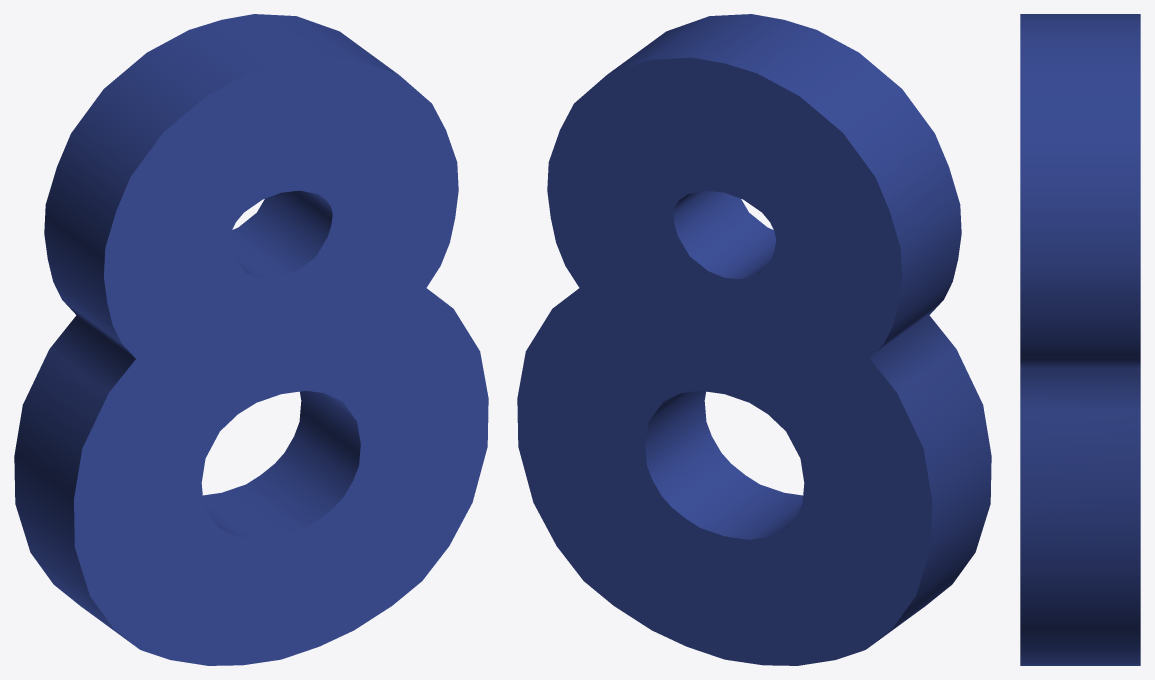
The model's file is ENV1710009.fbx.
3 renders of one model, left to right at view 1: azimuth 30°, elevation 25°; view 2: azimuth 150°, elevation 25°; view 3: azimuth 270°, elevation 25°, orthographic.
Visible parts, largest first — view 1: smENV1710009; view 2: smENV1710009; view 3: smENV1710009.
Boxes of the visible parts, x1,y1,x2,y2 form: smENV1710009: (14,14,488,665); smENV1710009: (517,14,991,665); smENV1710009: (1020,14,1140,665).
Size of the model in its own units: 85.74 by 118 by 21.33.
1 material, 1 textured.
